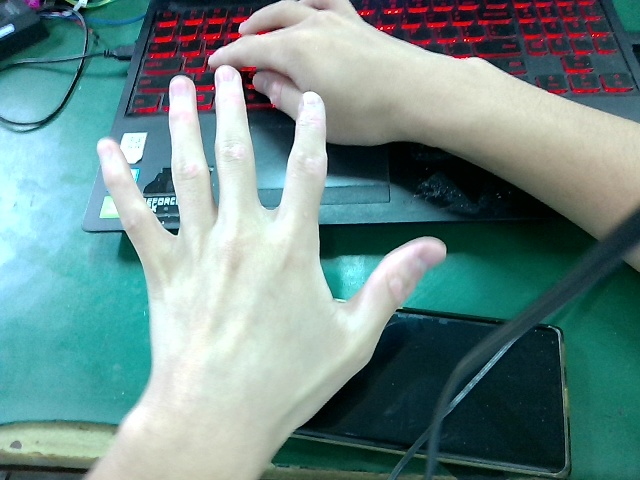paper: (83, 62, 475, 476)
